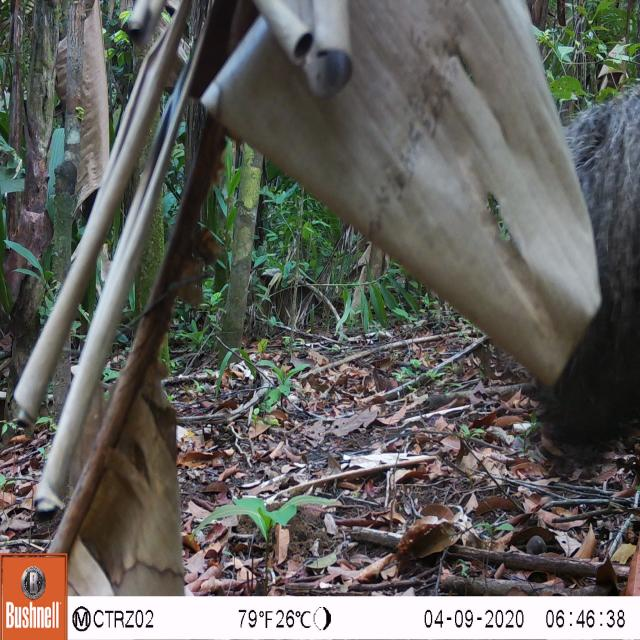Giant Anteater: (520, 82, 640, 468)
